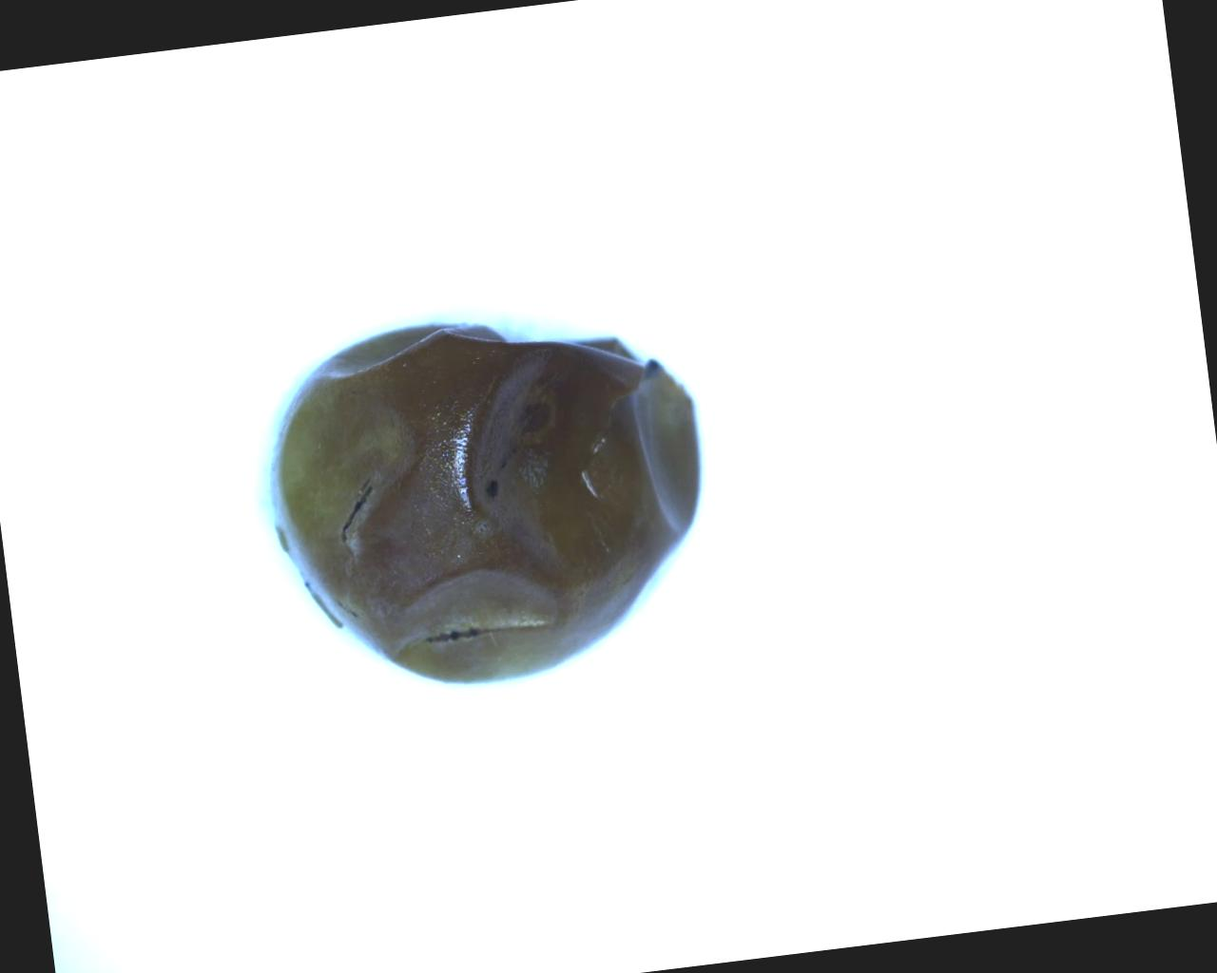Grape Rotten: (248, 289, 728, 708)
